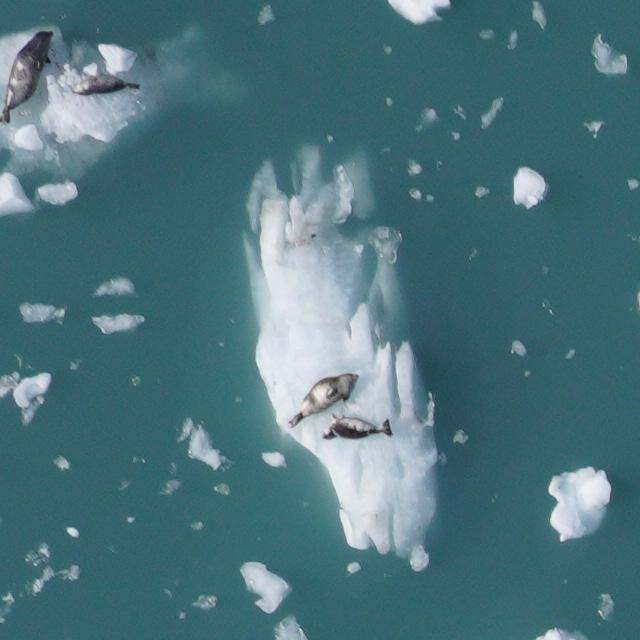seal: (0, 21, 63, 131), (274, 359, 368, 429), (71, 71, 139, 96), (323, 413, 391, 438)
